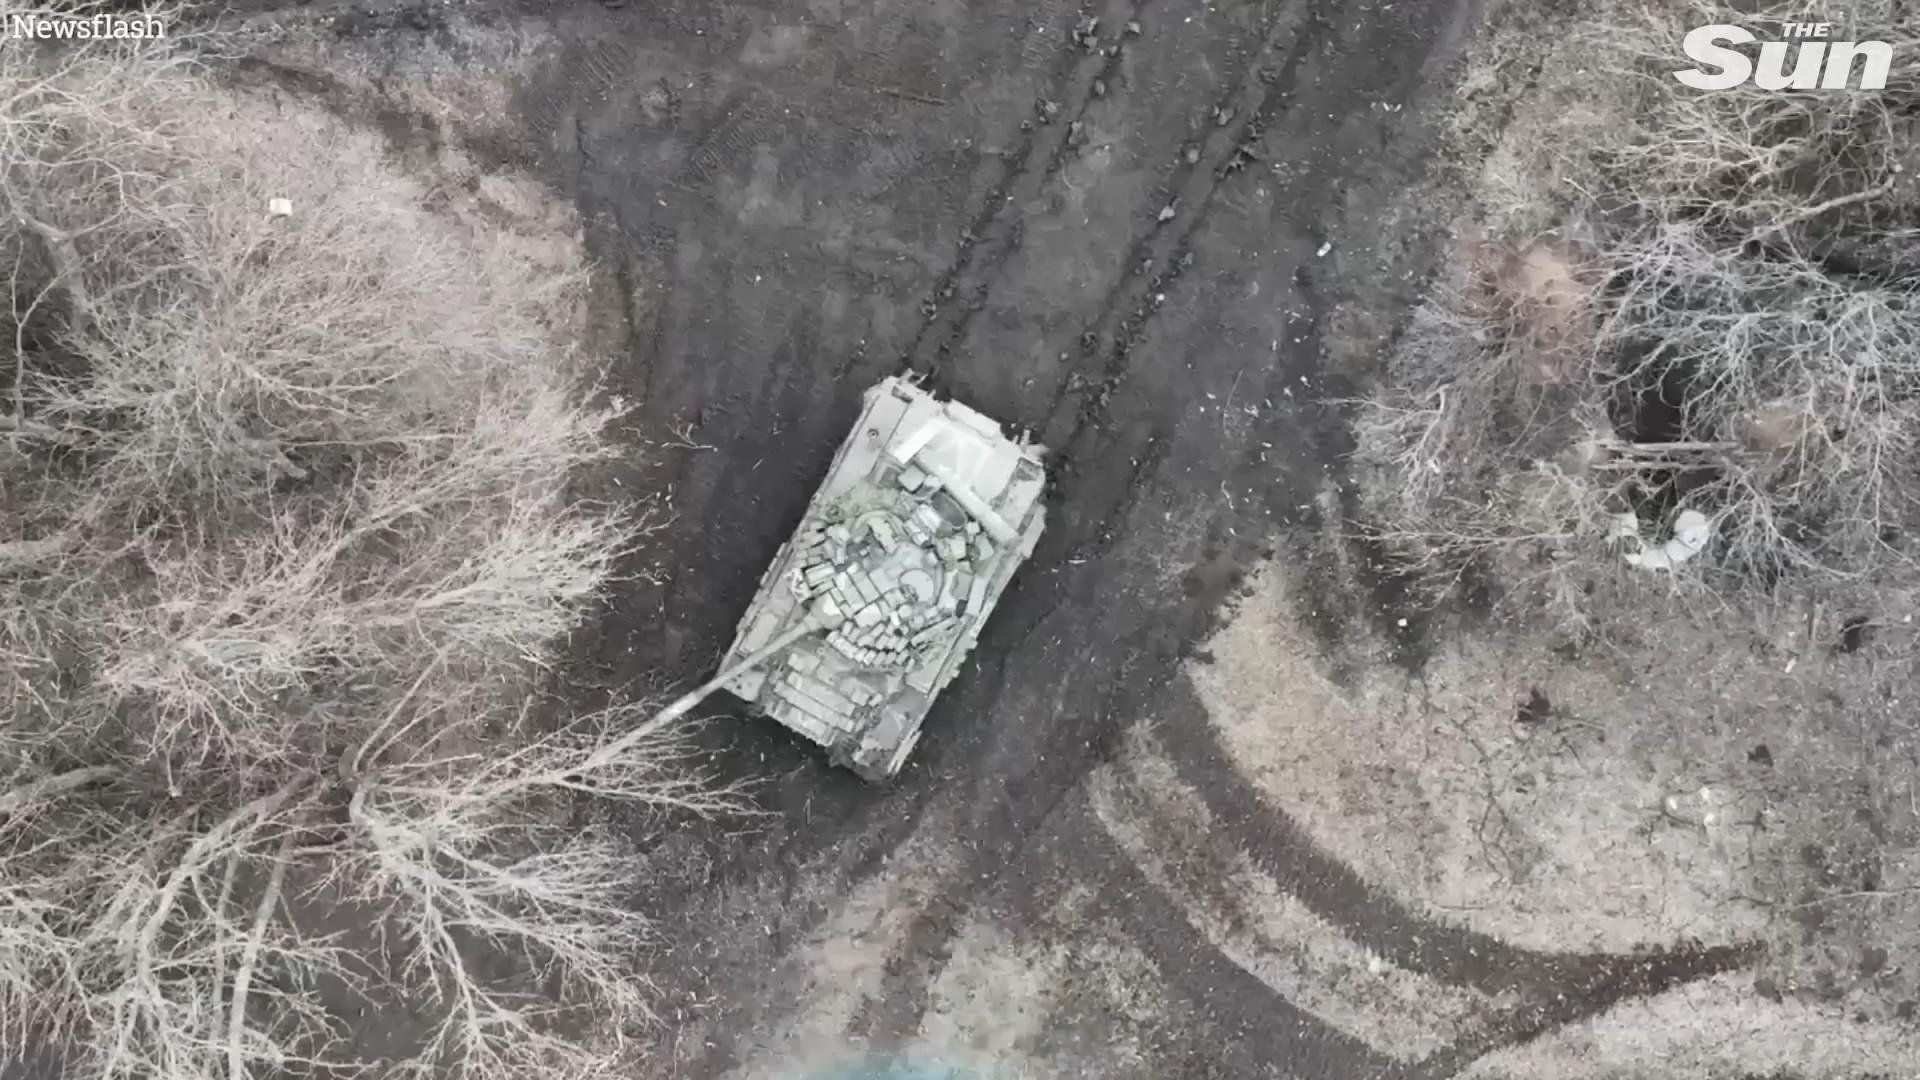tank: (567, 376, 1048, 782)
